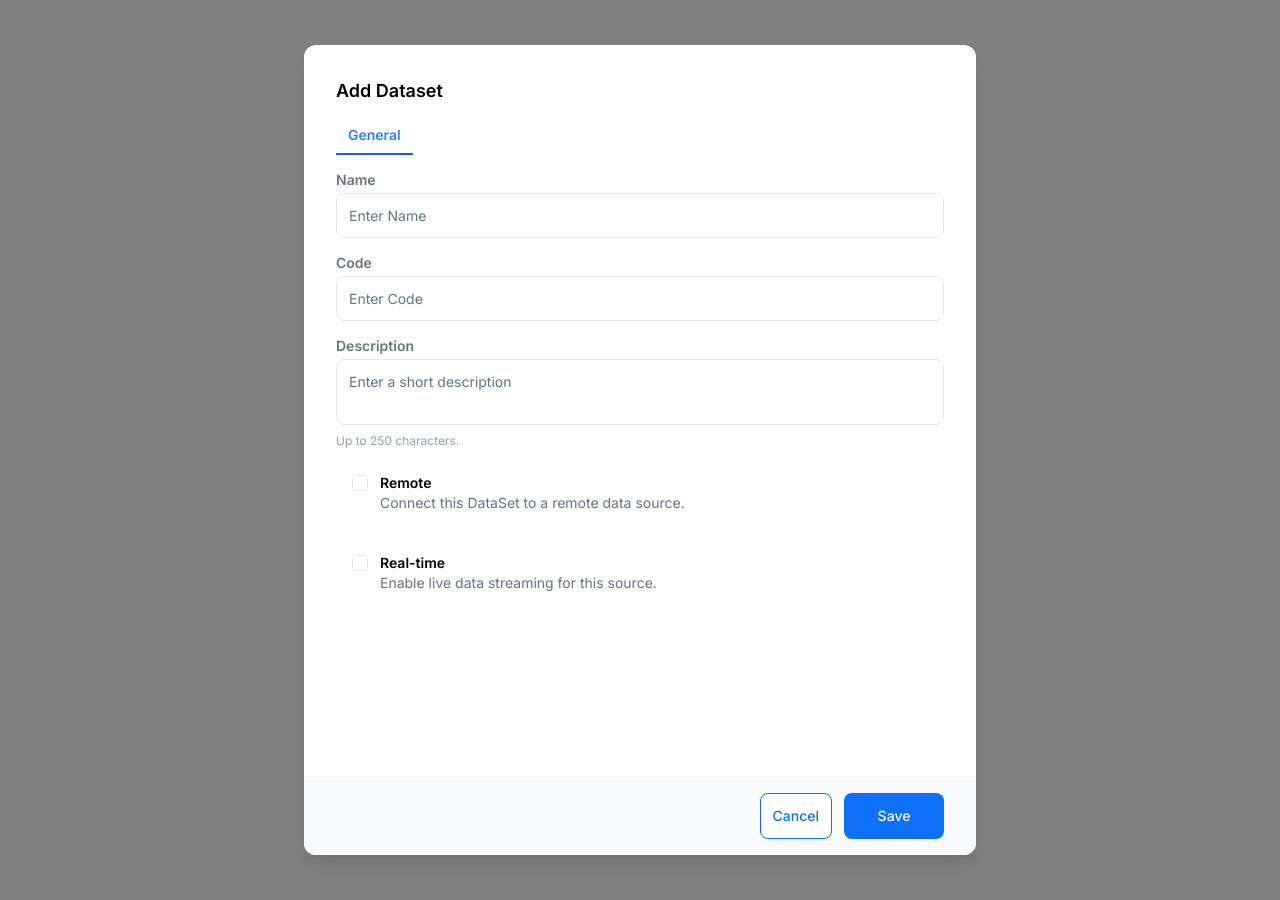
Scenario: AddAndEditDatasetModal › Real-time dataset › shows Data Connector Source dropdown when Real-time is checked
The image size is (1280, 900).
Click the checkbox named "Real-time" at (360, 563), box [352,555,368,571]
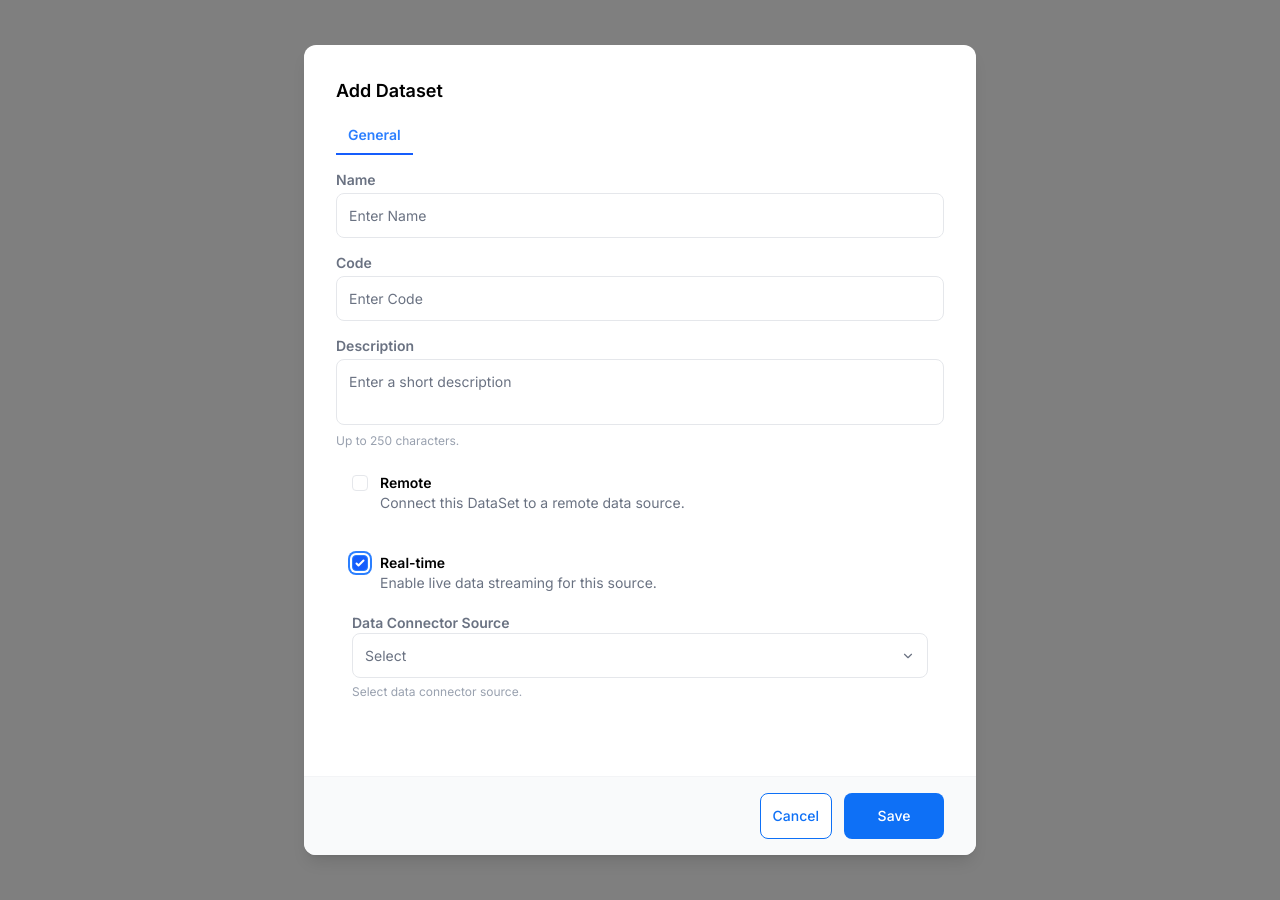
Now the text "Data Connector Source" is shown, box [352,613,509,633]
